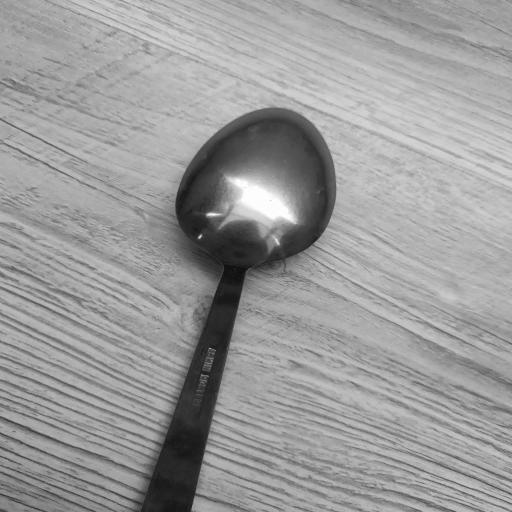spoon: (136, 105, 337, 512)
